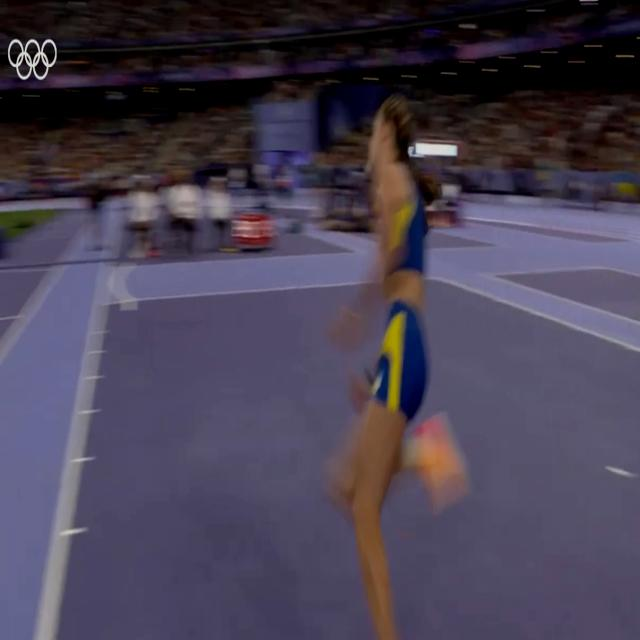run: (319, 100, 468, 640)
